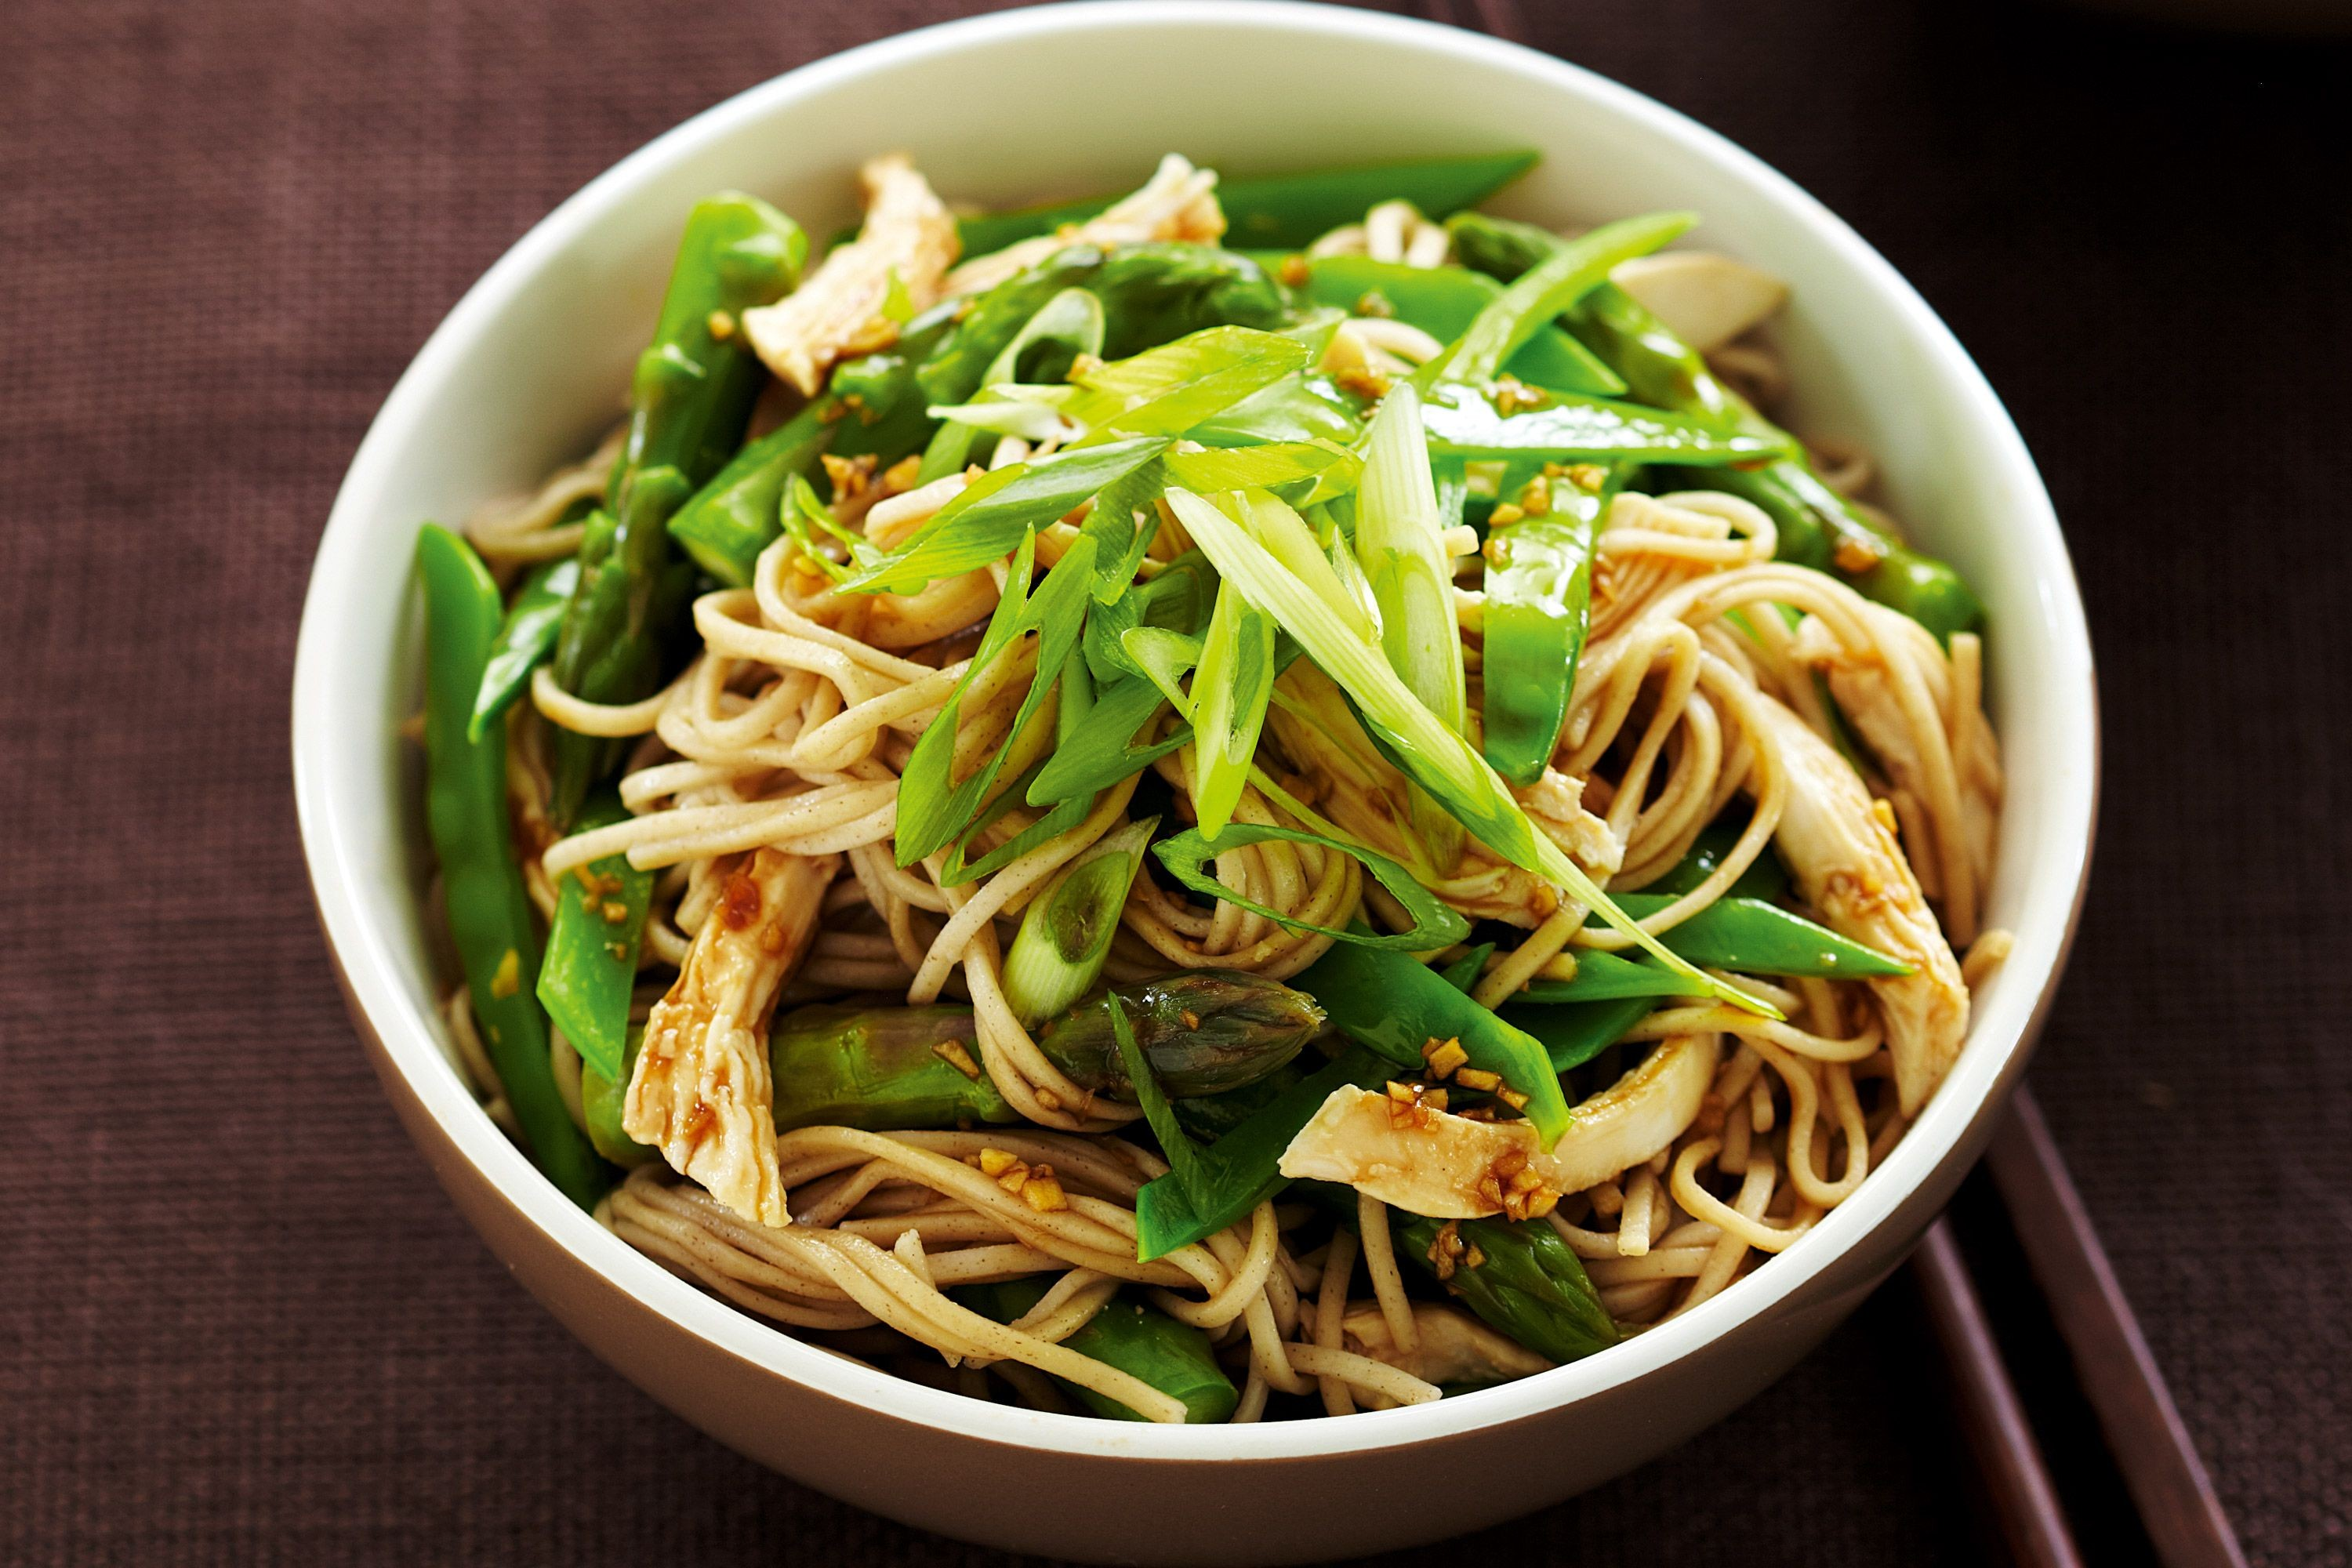Soba: (418, 222, 2030, 1391)
